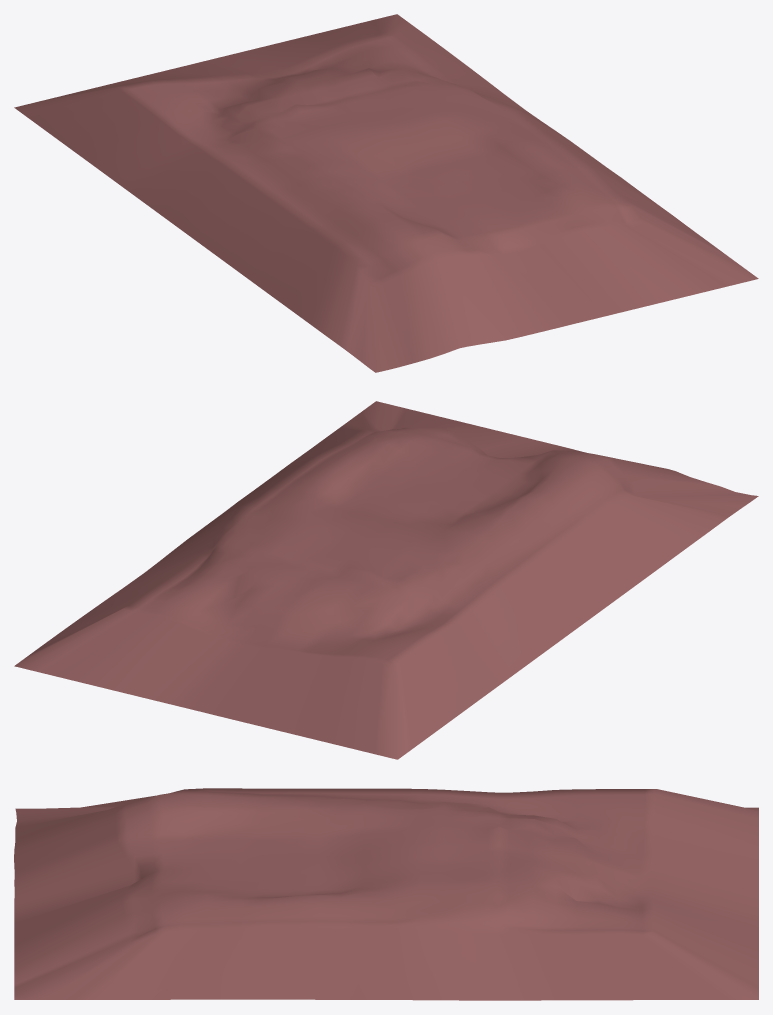
Rendered from test_terraine.fbx.
The picture shows the model from 3 angles, top to bottom: view 1: azimuth 30°, elevation 25°; view 2: azimuth 150°, elevation 25°; view 3: azimuth 270°, elevation 25°; orthographic projection. The views are drawn at different scales.
Visible parts, largest first — view 1: ter_terraine_uv_03; view 2: ter_terraine_uv_03; view 3: ter_terraine_uv_03.
Part boxes in pixels (x1,y1,x2,y2): ter_terraine_uv_03: (14, 14, 758, 372); ter_terraine_uv_03: (14, 401, 758, 759); ter_terraine_uv_03: (14, 788, 758, 1000).
Size of the model in its own units: 381 by 58.85 by 623.
